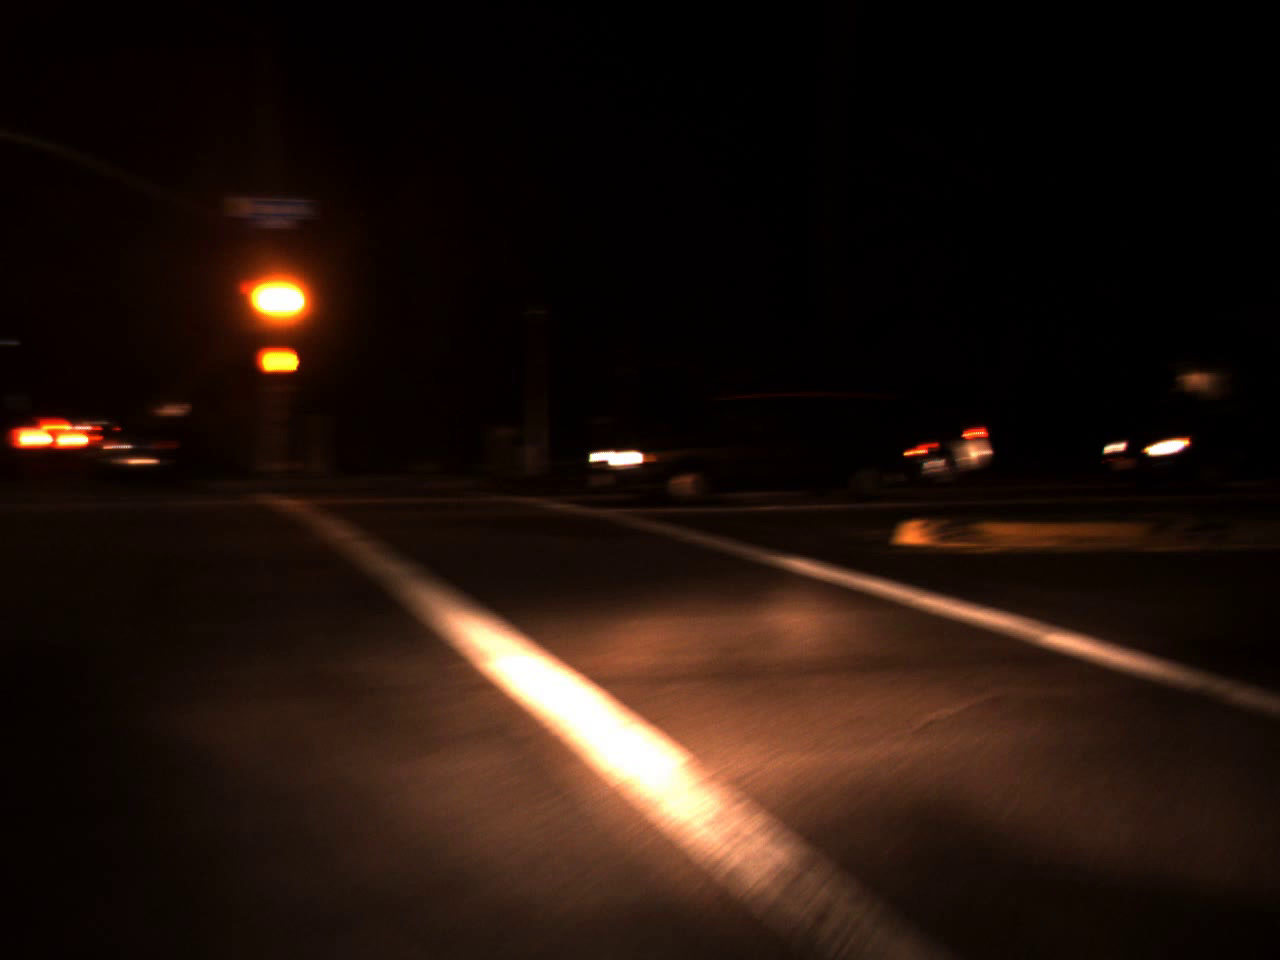warning: (255, 268, 298, 325)
